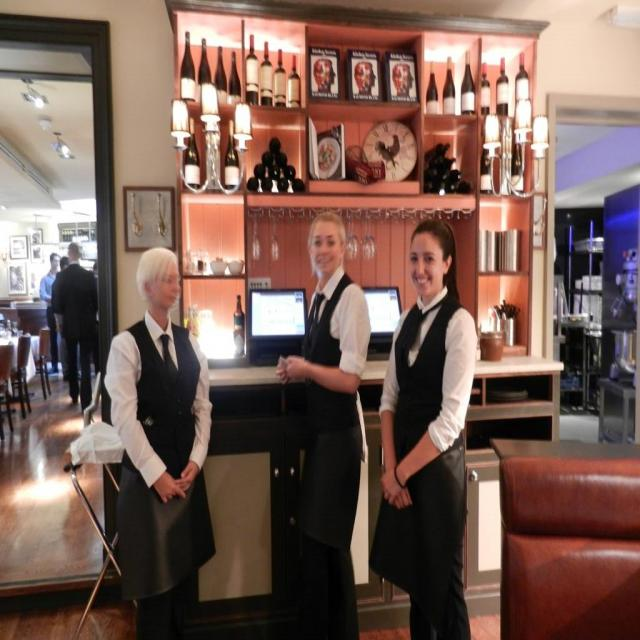nomask: (408, 243, 443, 295), (151, 269, 181, 309), (312, 233, 338, 277), (364, 67, 376, 86), (403, 69, 413, 88), (325, 66, 335, 84), (52, 258, 59, 269)
